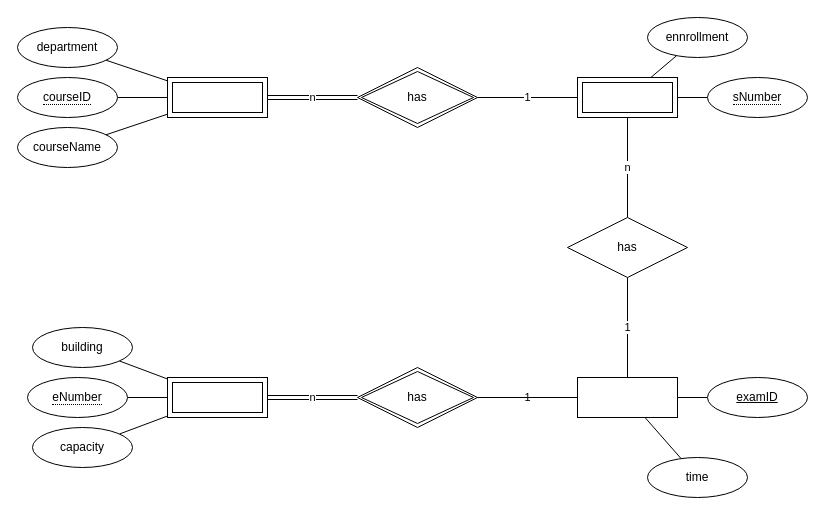
This 825x515 diagram has some shape labels left out. The shapes that lost their labels are listed below. From the top down, each one's centre as x and y in pixels, then its label:
At pixel 217 97: "course".
At pixel 627 97: "section".
At pixel 217 397: "room".
At pixel 627 397: "exam".
